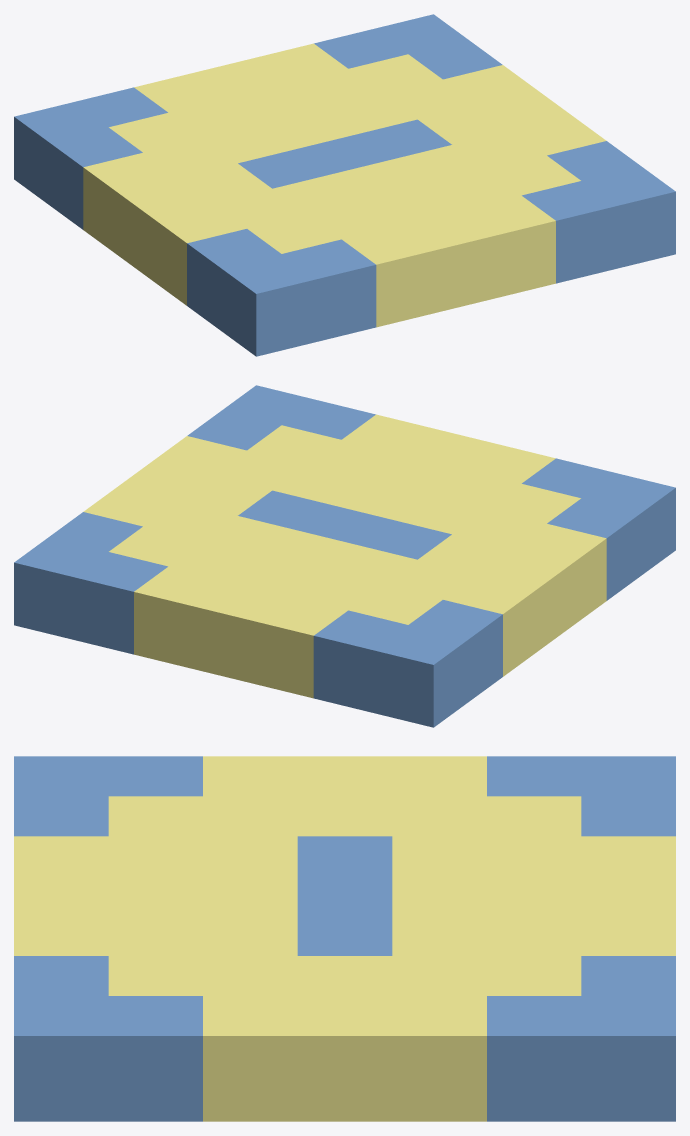
File: Brick3.obj
3 renders of one model, top to bottom at view 1: azimuth 30°, elevation 25°; view 2: azimuth 150°, elevation 25°; view 3: azimuth 270°, elevation 25°, orthographic. The views are drawn at different scales.
Parts seen in each view (by area): view 1: Brick3; view 2: Brick3; view 3: Brick3.
Part boxes in pixels (left/top/right/bottom): Brick3: left=14, top=14, right=675, bottom=356; Brick3: left=14, top=385, right=675, bottom=727; Brick3: left=14, top=756, right=675, bottom=1121.
Size of the model in its own units: 7 by 1 by 7.
1 material, 1 textured.
